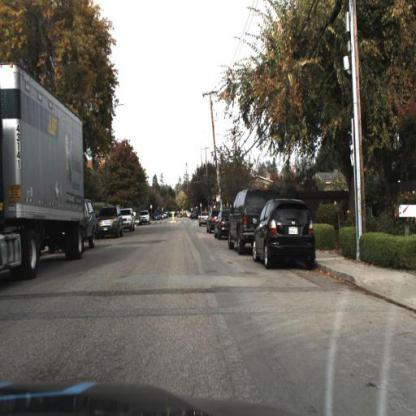car: (252, 198, 321, 270), (227, 185, 283, 260), (94, 202, 123, 242)
truck: (1, 60, 88, 282)
